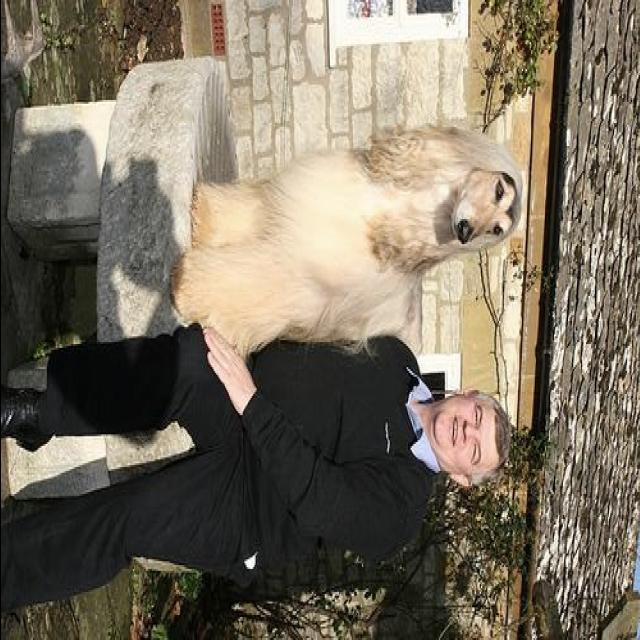afghan_hound: (172, 121, 522, 358)
